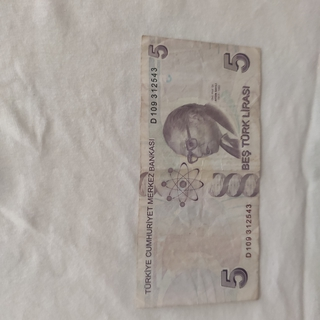5TLBack: (134, 34, 261, 309)
